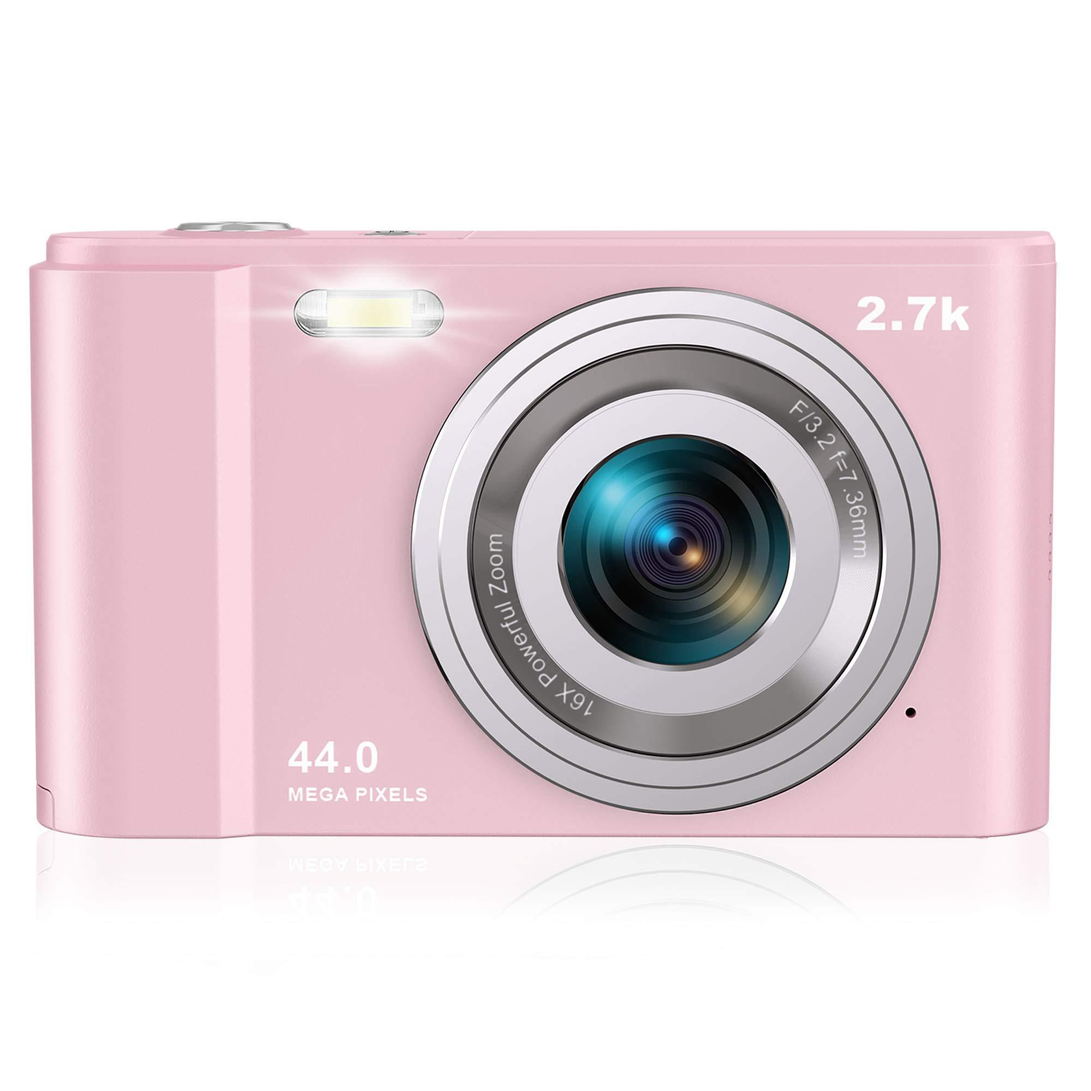degital-camera: (20, 211, 1069, 860)
